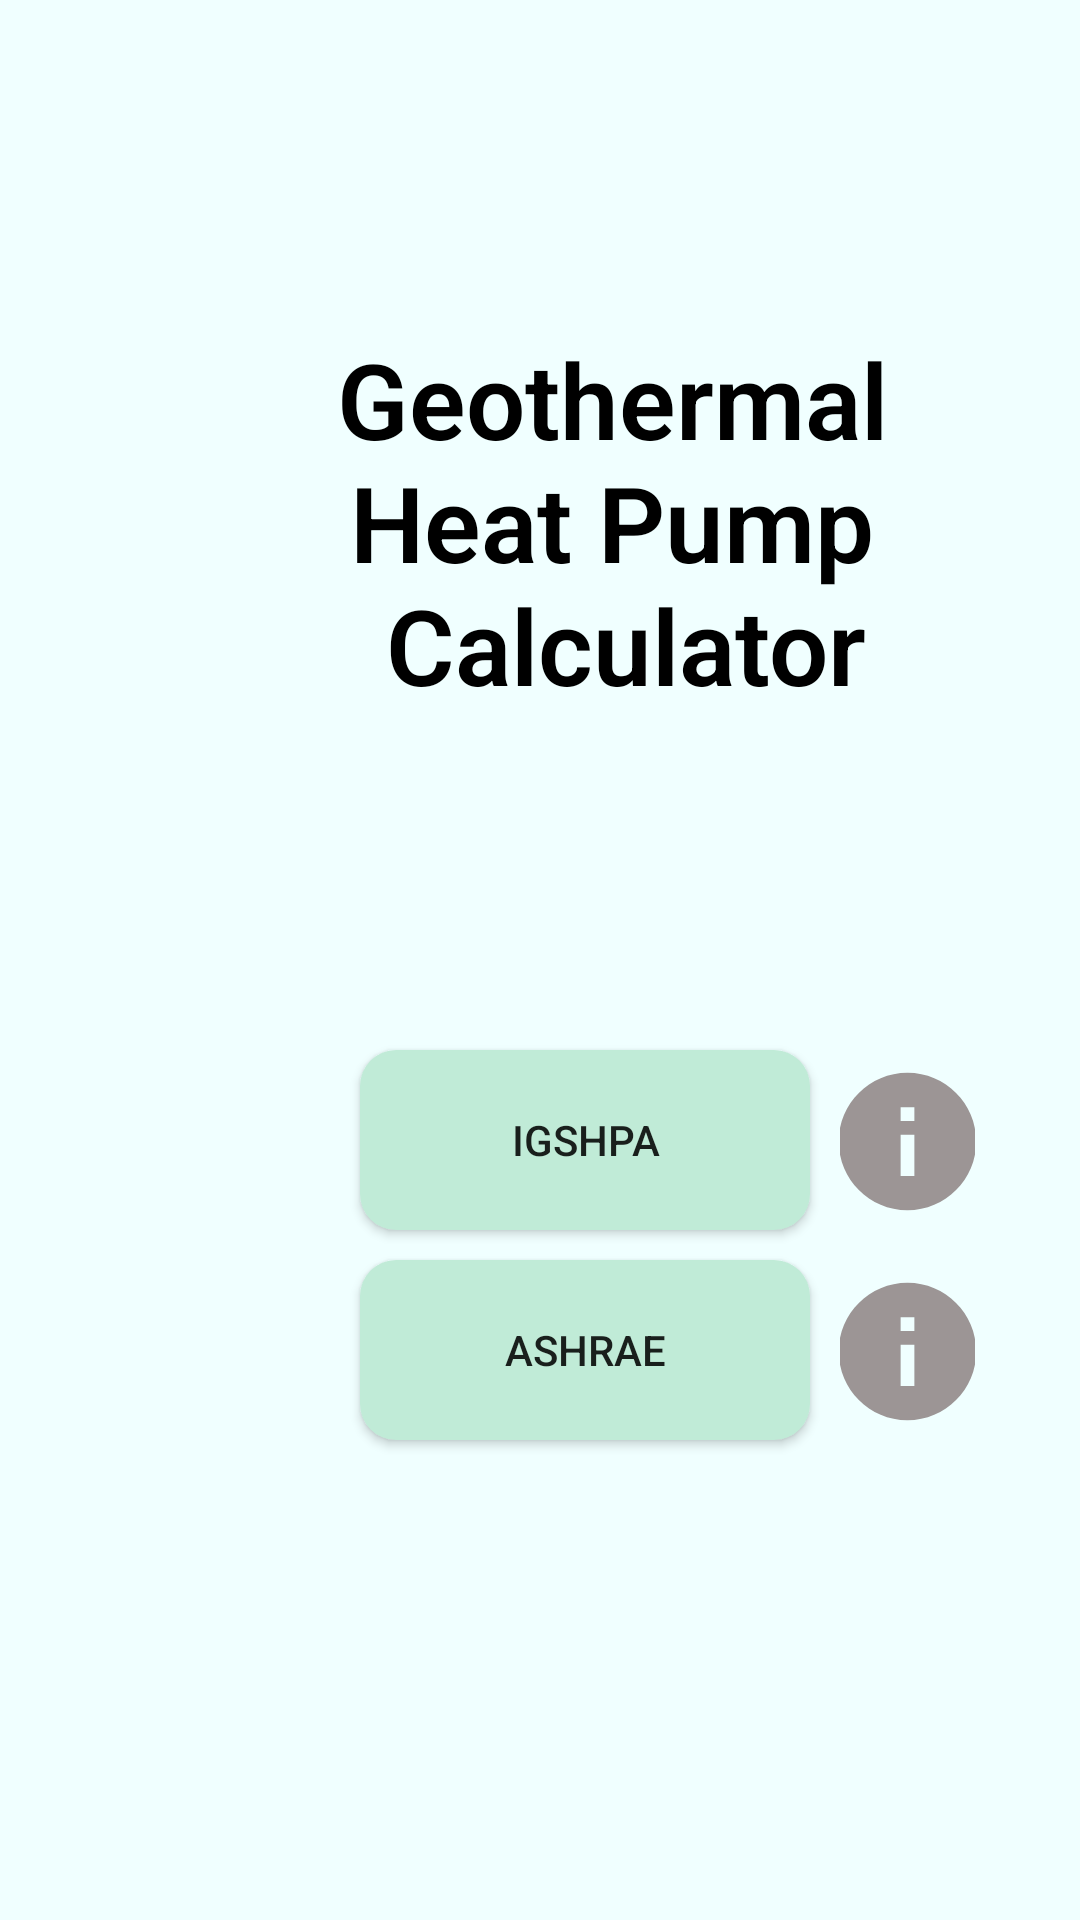

Named icons in this screenshot (1080x1920) and their centers, (x,y):
infomation: (907,1141), (907,1351)
